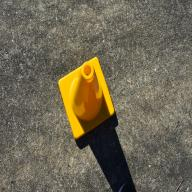cone: (58, 57, 115, 139)
